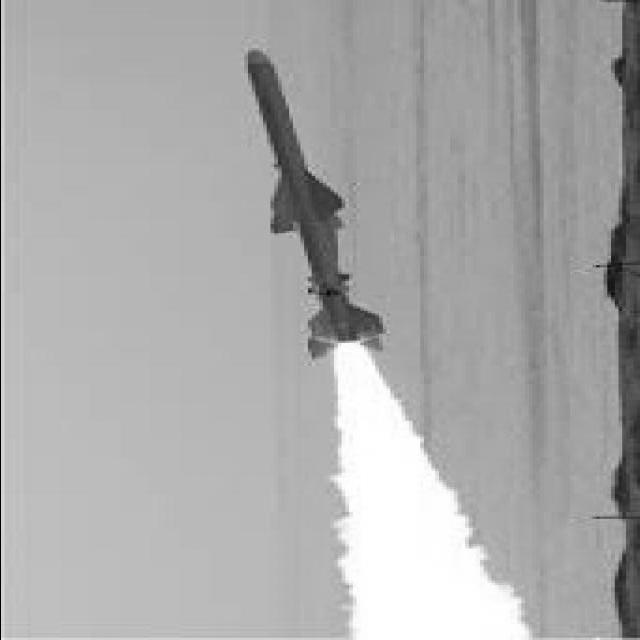Missile: (228, 41, 389, 370)
